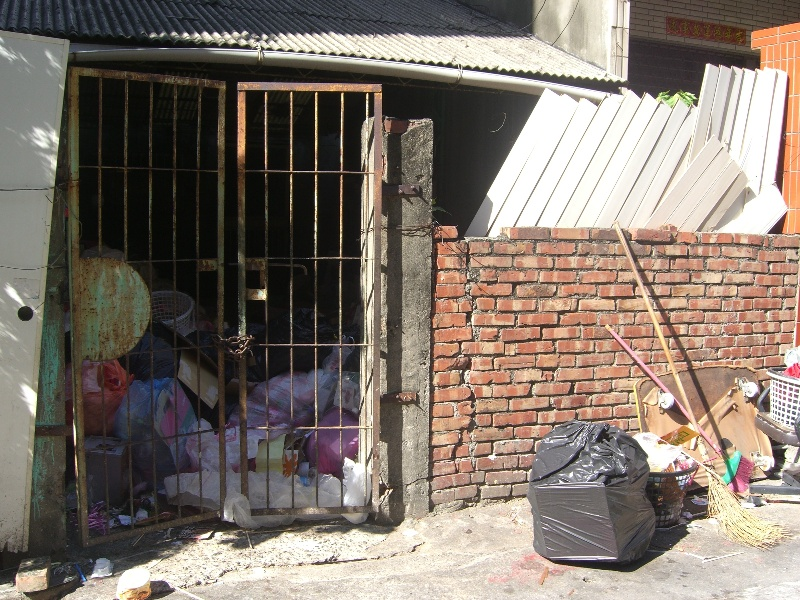plastic_bag: (529, 419, 656, 567), (169, 456, 371, 528)
